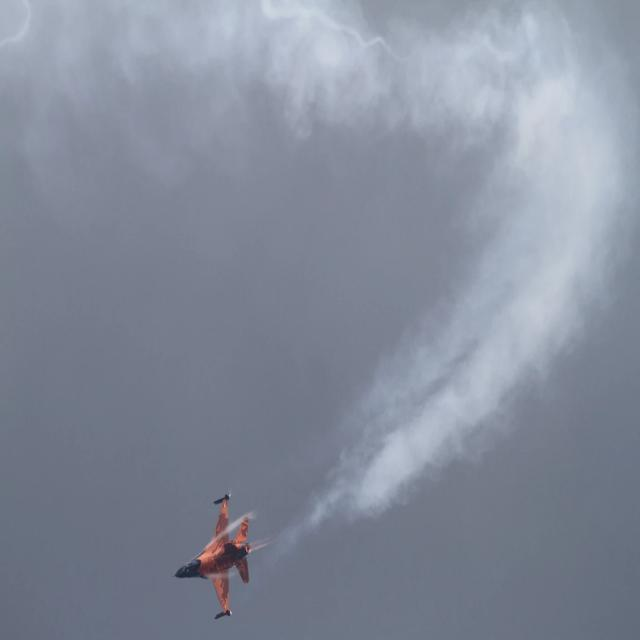MIL_Plane: (172, 492, 251, 620)
